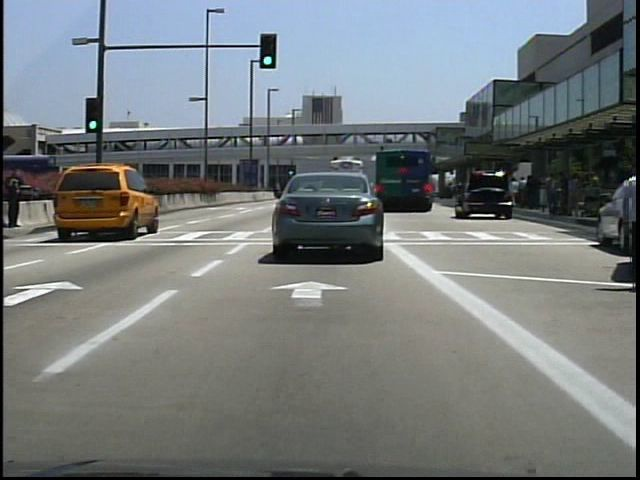person: (614, 151, 638, 296), (6, 163, 28, 227)
